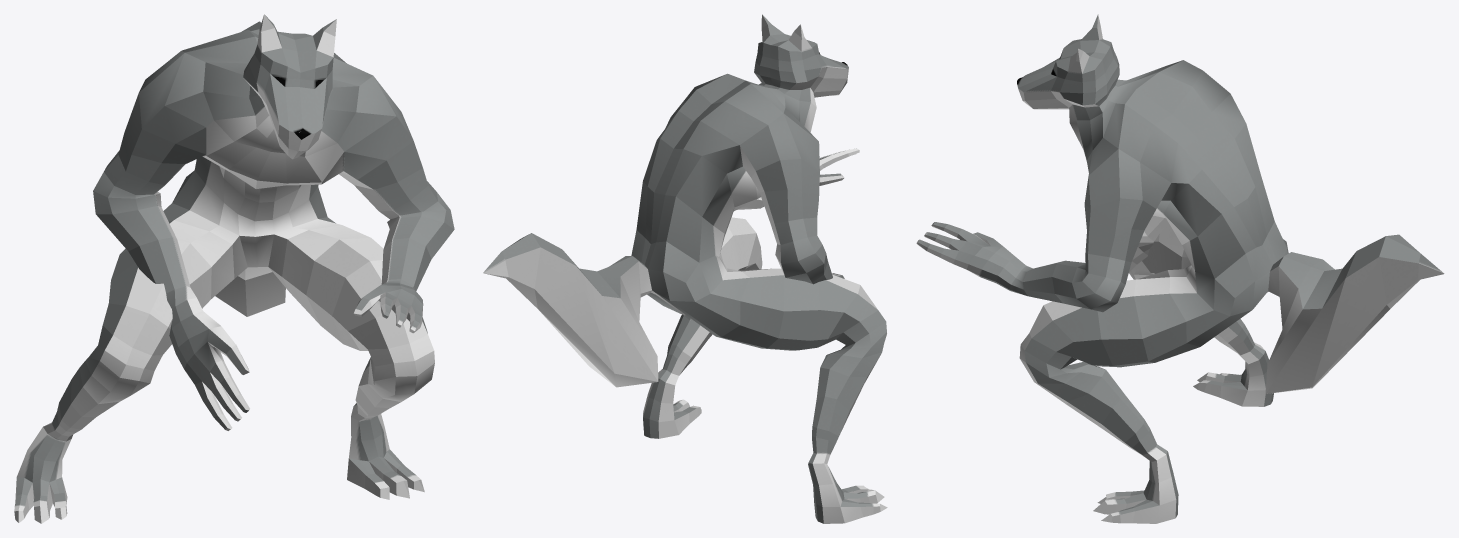
File: WolfAttack(85).obj
3 views of the same model, side by side, from view 1: azimuth 30°, elevation 25°; view 2: azimuth 150°, elevation 25°; view 3: azimuth 270°, elevation 25° (orthographic). The views are drawn at different scales.
Parts seen in each view (by area): view 1: Box001; view 2: Box001; view 3: Box001.
Part boxes in pixels (x1,y1,x2,y2): Box001: (14,14,454,523); Box001: (483,14,887,523); Box001: (916,14,1444,523).
Size of the model in its own units: 84.99 by 114 by 123.
